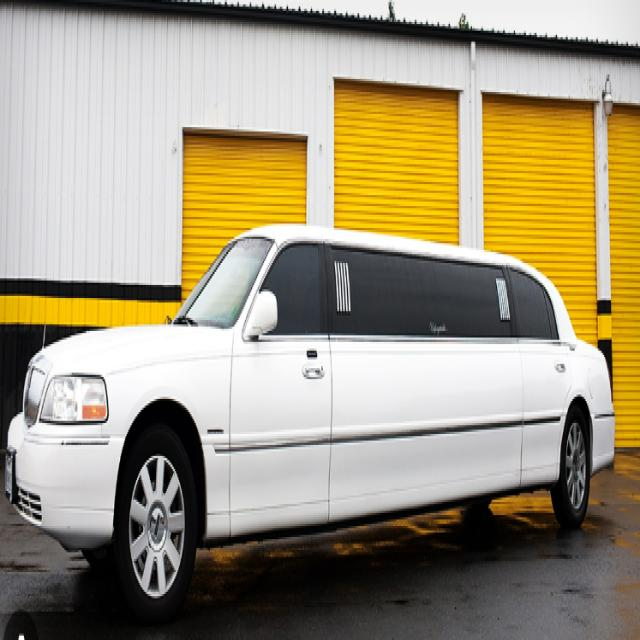Limousine: (5, 227, 616, 613)
